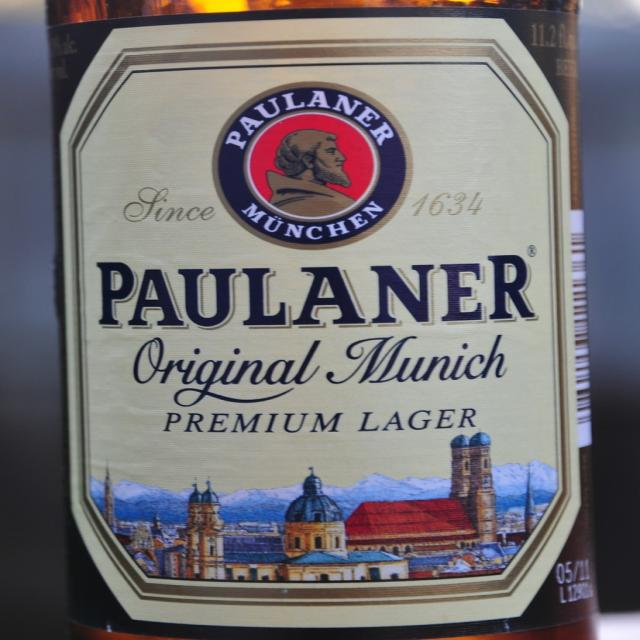paulaner: (214, 81, 417, 253)
